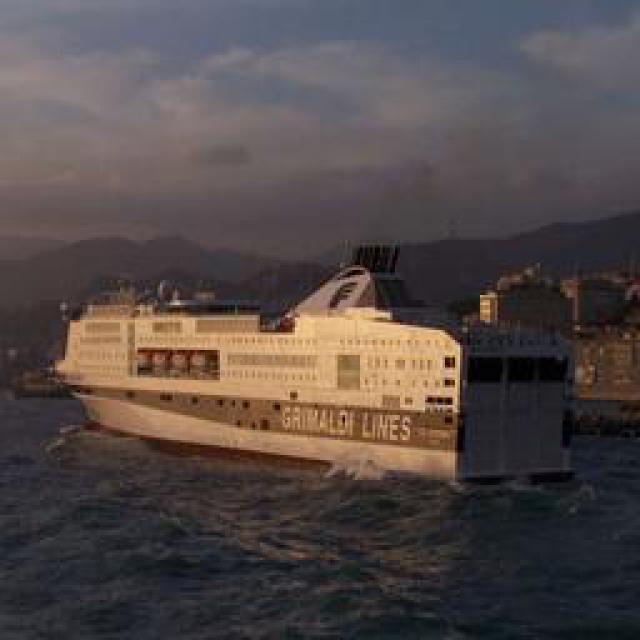Ship: (56, 268, 464, 476)
